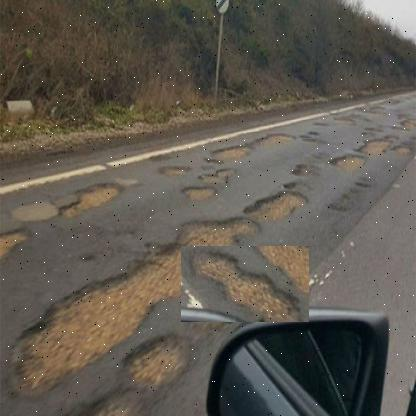pothole: (181, 246, 310, 323), (51, 175, 137, 226), (244, 180, 301, 224)
